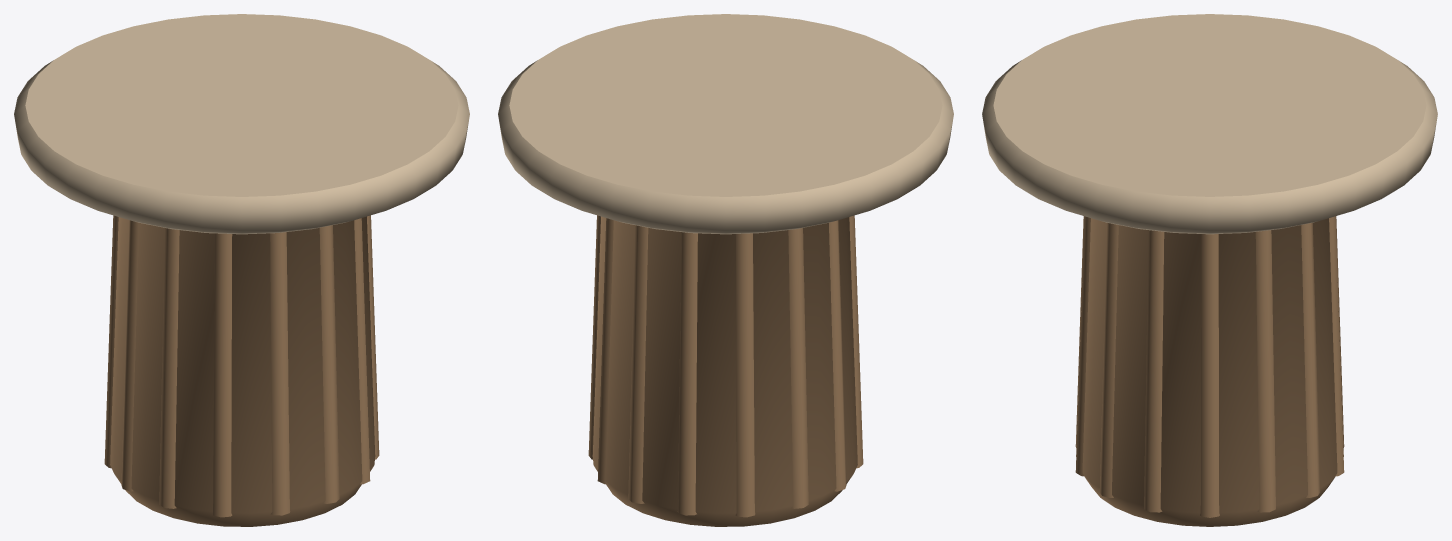
Rendered from table-side.glb.
3 views of the same model, side by side, from view 1: azimuth 30°, elevation 25°; view 2: azimuth 150°, elevation 25°; view 3: azimuth 270°, elevation 25° (orthographic).
Visible parts, largest first — view 1: table-side; view 2: table-side; view 3: table-side.
Part boxes in pixels (left/top/right/bottom): table-side: left=14, top=14, right=469, bottom=526; table-side: left=498, top=14, right=953, bottom=526; table-side: left=982, top=14, right=1437, bottom=526.
Size of the model in its own units: 0.48 by 0.43 by 0.48.
